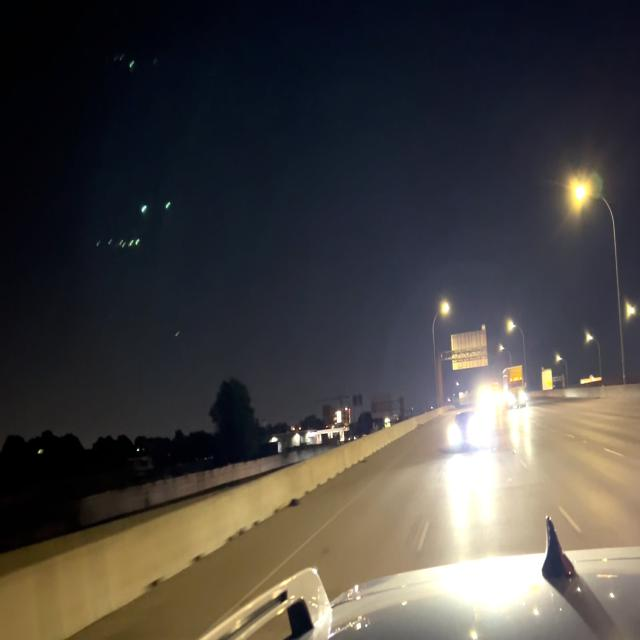back-of-sign: (450, 323, 490, 373)
